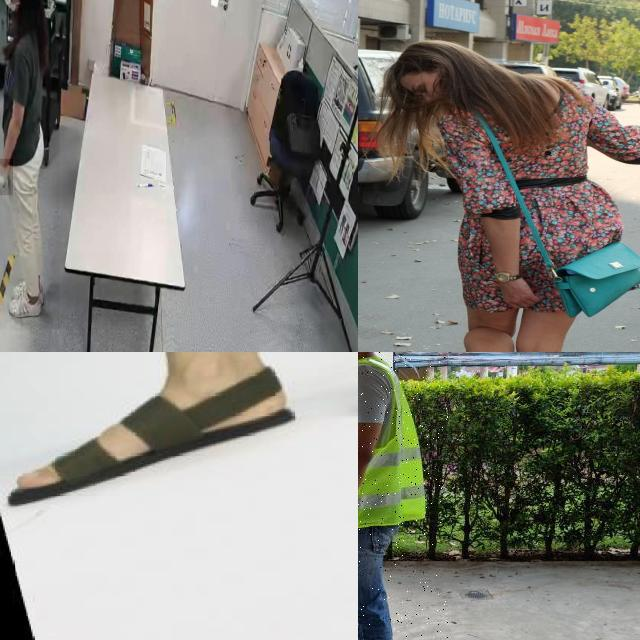Sandals: (7, 352, 296, 508)
face_mask: (0, 0, 17, 12)
hand_glove: (0, 158, 13, 196)
person: (358, 352, 448, 640), (0, 0, 60, 330)
shoes: (7, 287, 45, 322)
vest: (358, 360, 427, 528)
